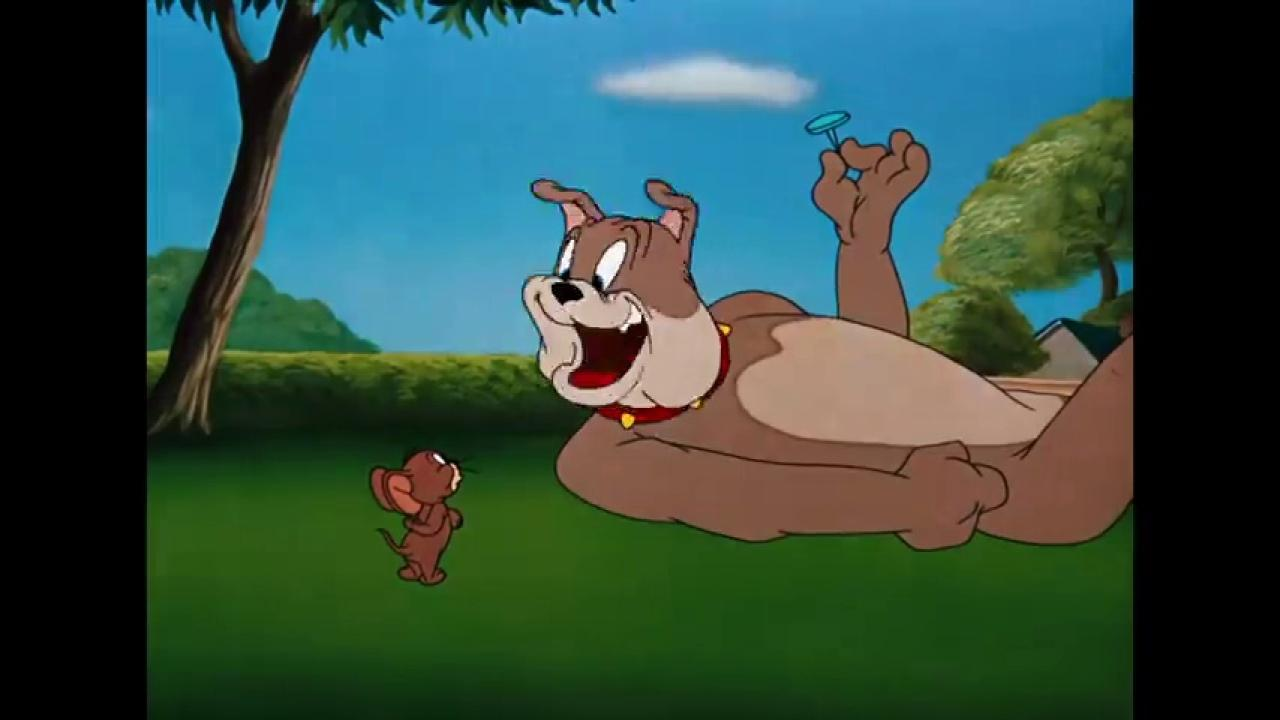Jerry: (368, 442, 482, 587)
